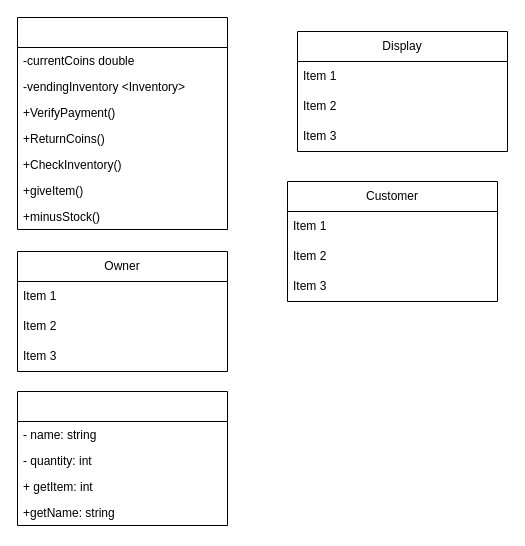
Some shapes in this 525 by 546 pixel diagram are drawn without their labels. Here are the shapes that lost their labels. From the top down, the box of each, then its label:
(16, 16, 228, 230): Vending Machine
(16, 390, 228, 526): Inventory
